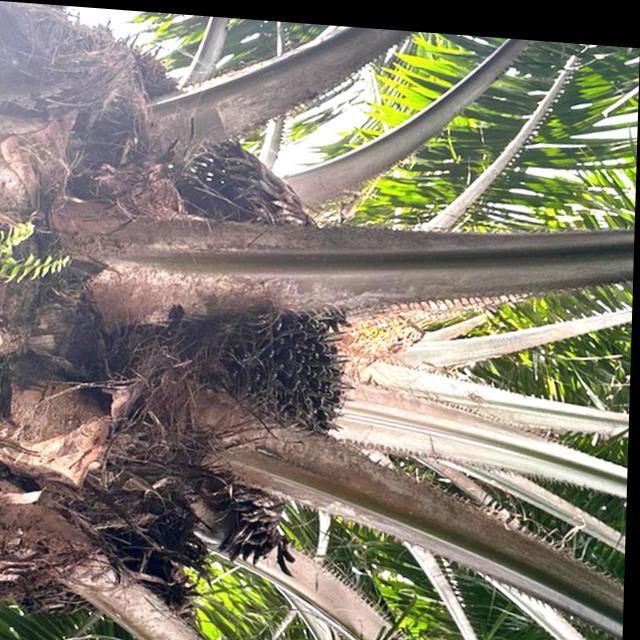unripe: (178, 277, 370, 450)
